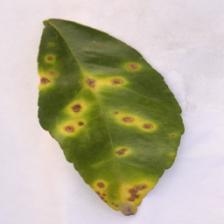canker: (35, 63, 163, 200)
